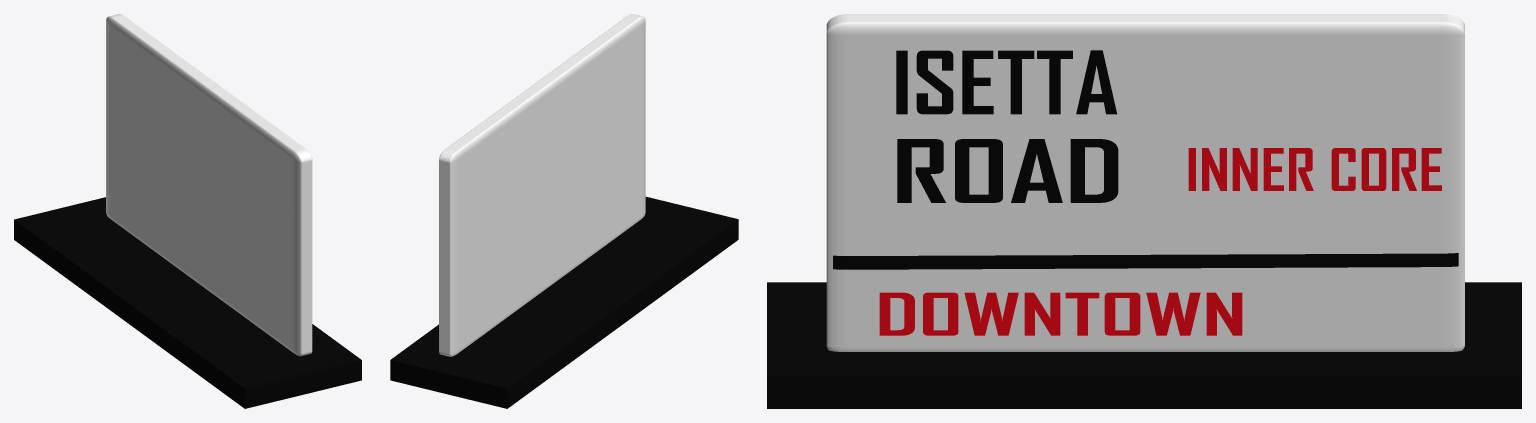
Rendered from uk_styled_street_sign_62.fbx.
The picture shows the model from 3 angles, left to right: view 1: azimuth 30°, elevation 25°; view 2: azimuth 150°, elevation 25°; view 3: azimuth 270°, elevation 25°; orthographic projection. The views are drawn at different scales.
Visible parts, largest first — view 1: Cube, Cube.001; view 2: Cube, Cube.001; view 3: Cube, Cube.001, Text.002, Text.001, Text, Text.003.
Part boxes in pixels (x1,y1,x2,y2): Cube: [106, 14, 312, 356]; Cube.001: [14, 197, 361, 408]; Cube: [439, 14, 645, 356]; Cube.001: [390, 196, 738, 408]; Cube: [826, 14, 1464, 351]; Cube.001: [767, 282, 1521, 408]; Text.002: [879, 292, 1242, 335]; Text.001: [897, 139, 1118, 202]; Text: [896, 50, 1116, 114]; Text.003: [1188, 148, 1441, 190].
Bounding box in the file's own units: 12 × 21.71 × 41.07.
